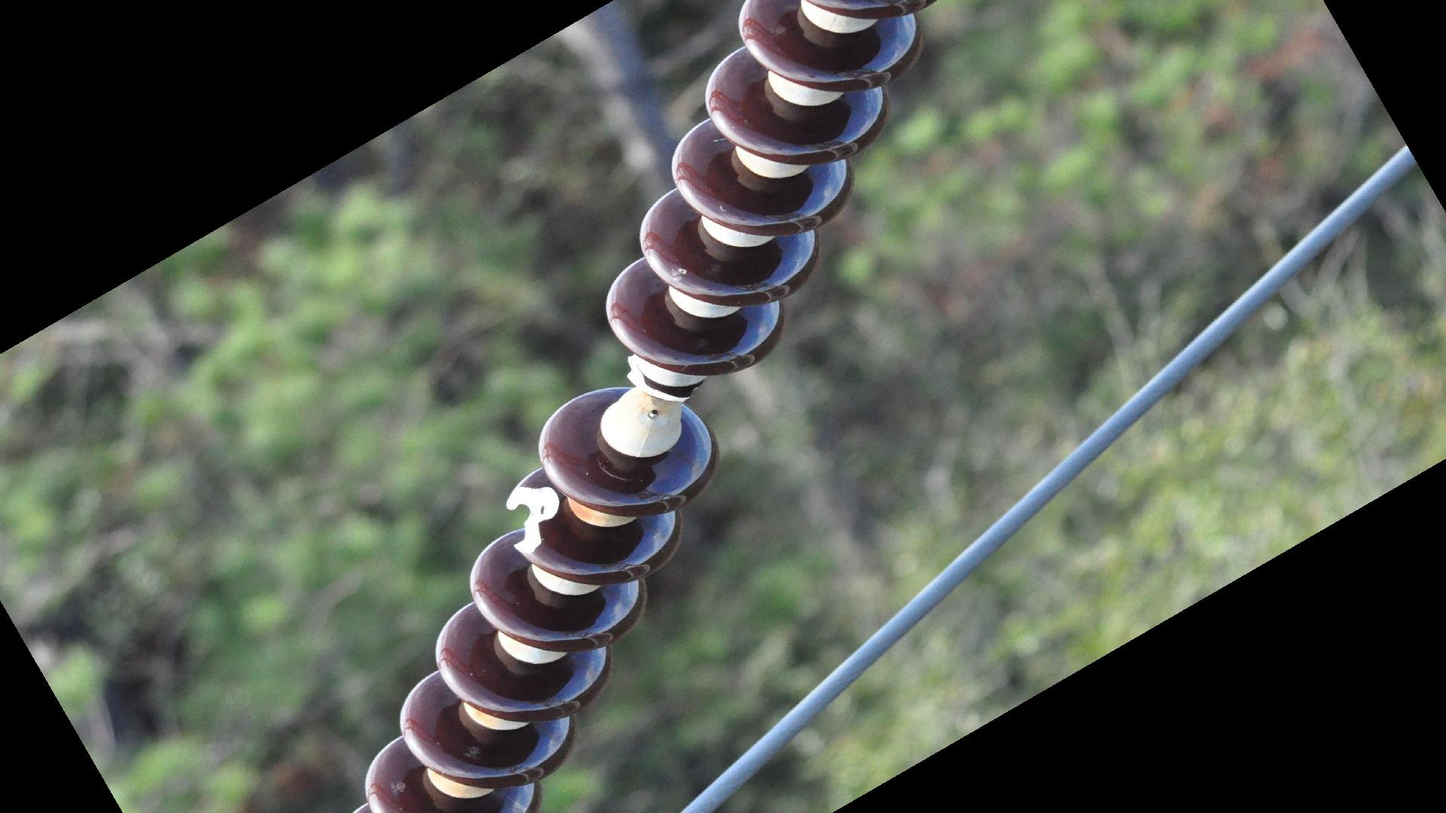insulator: (349, 1, 941, 813)
insulator_breakage: (500, 475, 564, 561)
